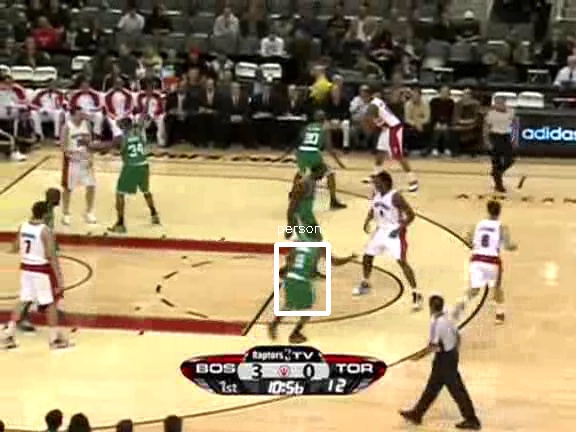person: (287, 234, 321, 315), (286, 234, 320, 315), (288, 234, 322, 315), (287, 233, 321, 314), (287, 235, 321, 316)
target_negative: (333, 269, 554, 427), (486, 290, 566, 400), (262, 343, 574, 358), (81, 231, 86, 393), (58, 195, 332, 197), (566, 56, 567, 166)
